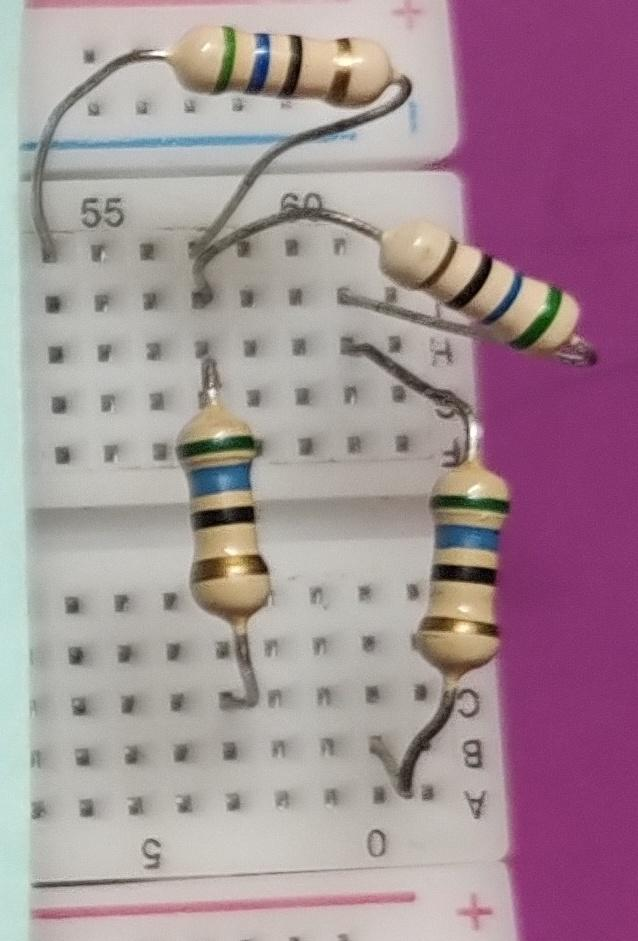resistor: (367, 199, 589, 362), (157, 3, 413, 129), (409, 447, 524, 692), (167, 393, 286, 627)
